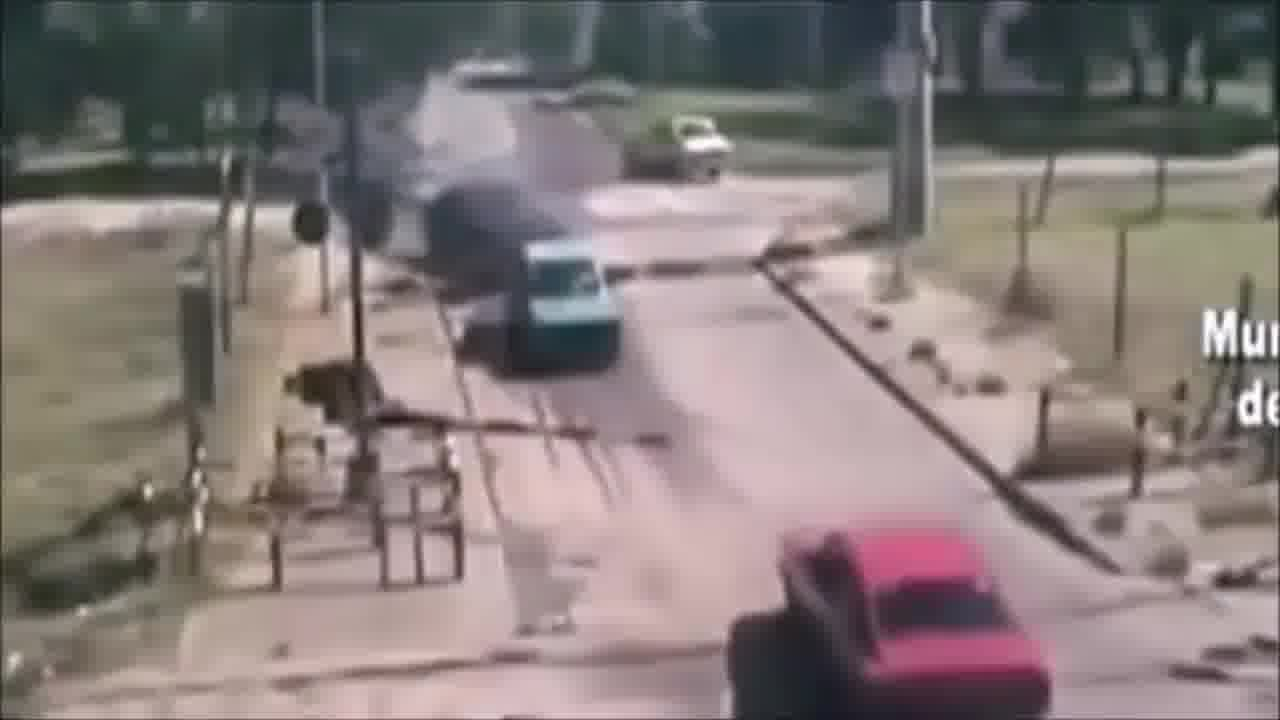crossing railway track: (738, 450, 1067, 720)
